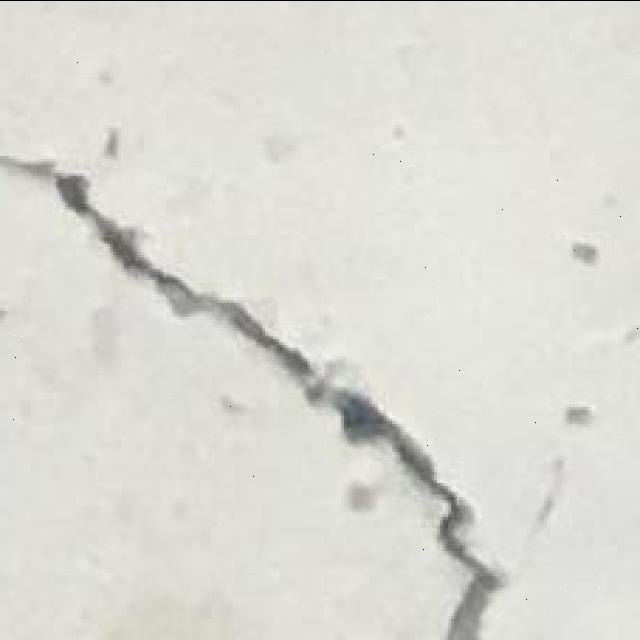crack: (1, 148, 512, 637), (2, 135, 141, 339), (81, 284, 242, 401)
